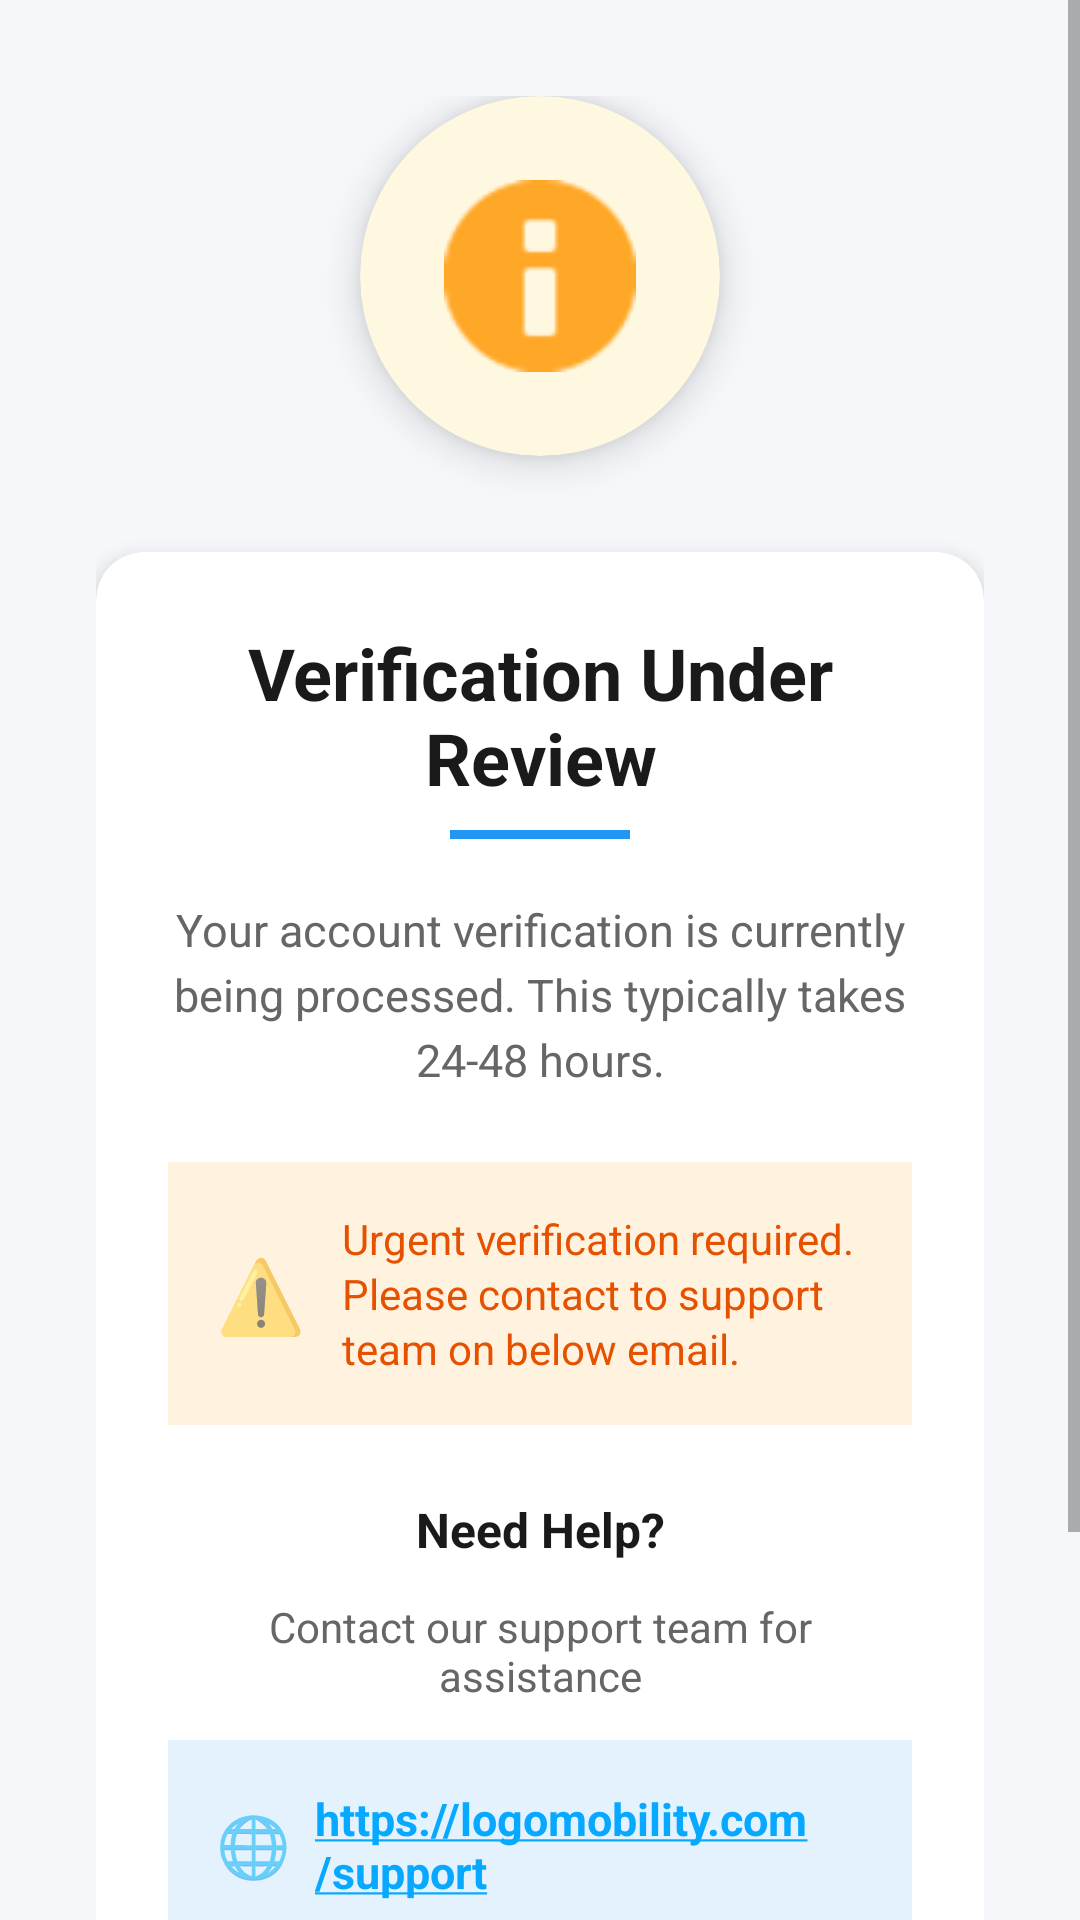

Icon click points for this 1080 x 1920 phone screenshot, format [x,y]:
info: [540,276]
